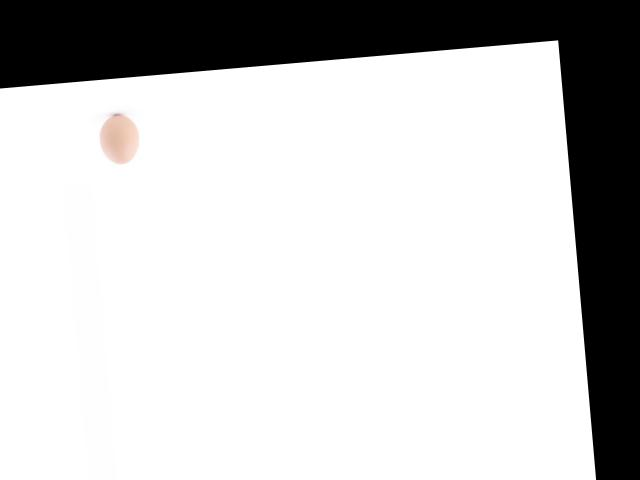egg: (96, 113, 140, 165)
